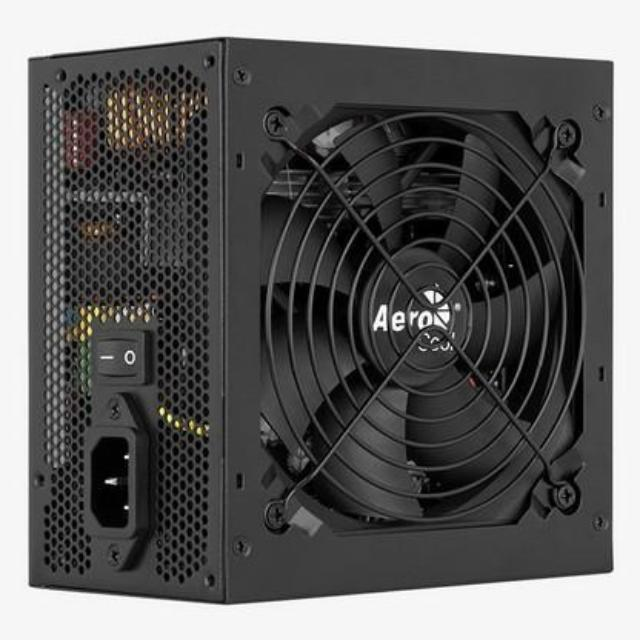PSU: (18, 26, 622, 612)
